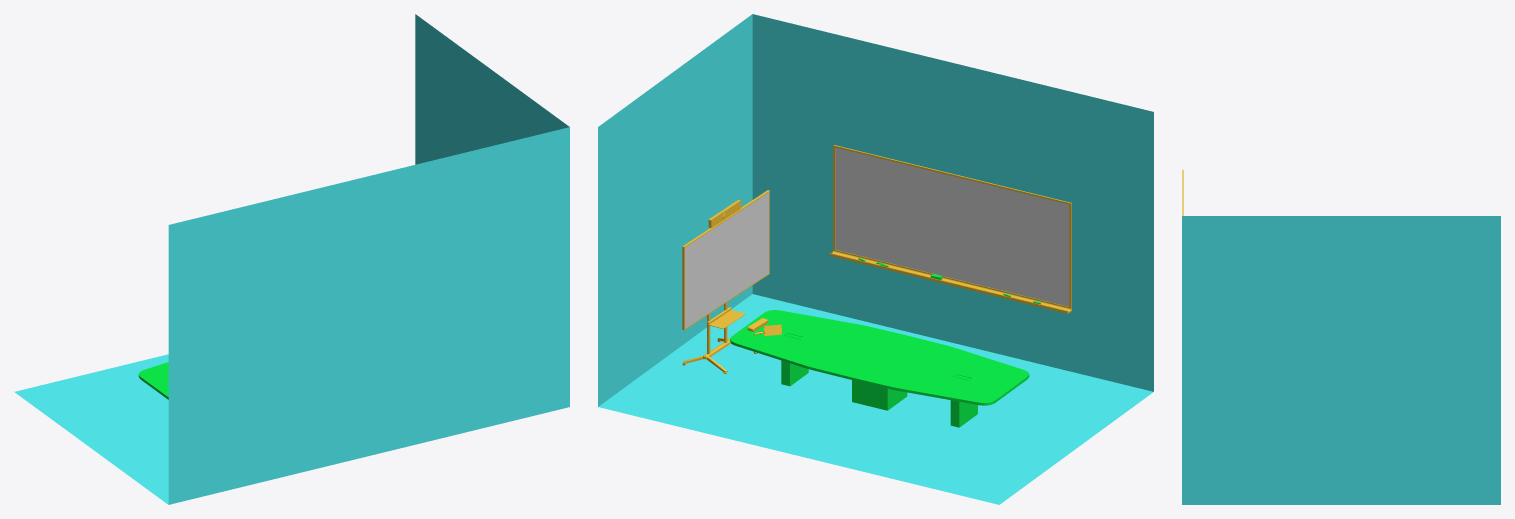
File: room_Scene.fbx
3 renders of one model, left to right at view 1: azimuth 30°, elevation 25°; view 2: azimuth 150°, elevation 25°; view 3: azimuth 270°, elevation 25°, orthographic. The views are drawn at different scales.
Visible parts, largest first — view 1: polySurface3, polySurface4, polySurface2, SM_Table; view 2: polySurface3, polySurface2, polySurface4, pCube13, SM_Table, TV_Screen, pCube26, TV_Set, TV_Set2; view 3: polySurface4.
Part boxes in pixels (box(x1,y1,x2,y2)): polySurface3: box(168, 127, 569, 504); polySurface4: box(415, 14, 569, 164); polySurface2: box(14, 354, 168, 504); SM_Table: box(138, 362, 168, 399); polySurface3: box(752, 14, 1153, 391); polySurface2: box(598, 294, 1153, 504); polySurface4: box(598, 14, 752, 406); pCube13: box(830, 145, 1071, 313); SM_Table: box(730, 310, 1029, 427); TV_Screen: box(685, 192, 769, 328); pCube26: box(829, 145, 1070, 310); TV_Set: box(683, 190, 769, 373); TV_Set2: box(682, 190, 768, 373); polySurface4: box(1182, 216, 1500, 504).
Size of the model in its own units: 1500 by 1000 by 1000.
